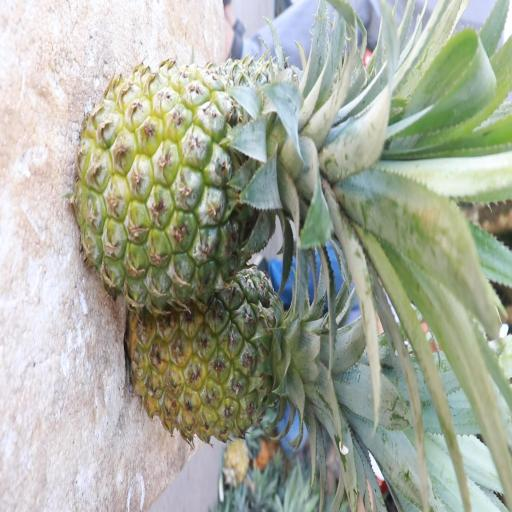------------------------------: (76, 59, 337, 304)
Pineapple - v8 v1: (132, 259, 347, 441)
